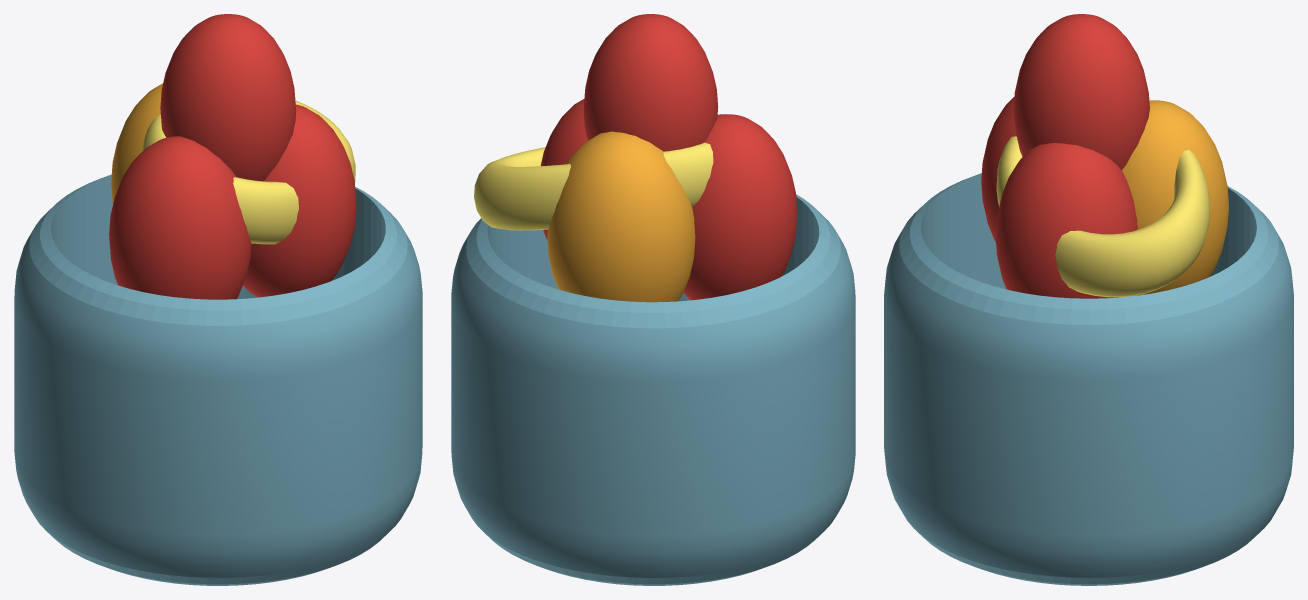
File: fruit_bowl.glb
The picture shows the model from 3 angles, left to right: view 1: azimuth 30°, elevation 25°; view 2: azimuth 150°, elevation 25°; view 3: azimuth 270°, elevation 25°; orthographic projection.
Parts seen in each view (by area): view 1: Cylinder.001, Sphere.004, Sphere.007, Sphere.005, Torus.001, Sphere.006; view 2: Cylinder.001, Sphere.006, Sphere.004, Sphere.007, Torus.001, Sphere.005; view 3: Cylinder.001, Sphere.007, Sphere.005, Torus.001, Sphere.006, Sphere.004.
Boxes of the visible parts, left/top/right/bottom form: Cylinder.001: left=14, top=174, right=422, bottom=585; Sphere.004: left=109, top=136, right=251, bottom=299; Sphere.007: left=160, top=14, right=296, bottom=181; Sphere.005: left=243, top=104, right=356, bottom=297; Torus.001: left=142, top=100, right=355, bottom=244; Sphere.006: left=111, top=83, right=162, bottom=203; Cylinder.001: left=451, top=194, right=855, bottom=585; Sphere.006: left=547, top=131, right=695, bottom=302; Sphere.004: left=683, top=114, right=797, bottom=300; Sphere.007: left=583, top=14, right=717, bottom=151; Torus.001: left=474, top=142, right=713, bottom=230; Sphere.005: left=541, top=99, right=587, bottom=239; Cylinder.001: left=884, top=173, right=1293, bottom=585; Sphere.007: left=1013, top=14, right=1149, bottom=170; Sphere.005: left=995, top=143, right=1137, bottom=298; Torus.001: left=996, top=136, right=1209, bottom=297; Sphere.006: left=1122, top=100, right=1228, bottom=295; Sphere.004: left=981, top=96, right=1016, bottom=241.
Size of the model in its own units: 5.7 by 7.72 by 5.7.
